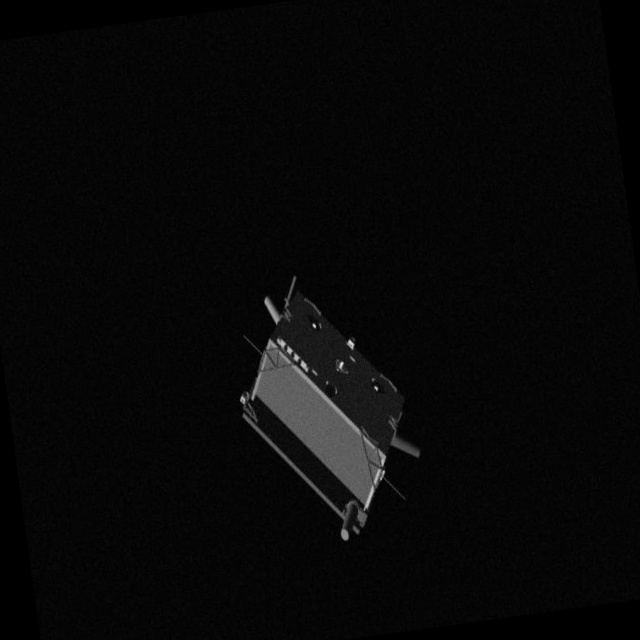medium_debris: (210, 261, 436, 558)
